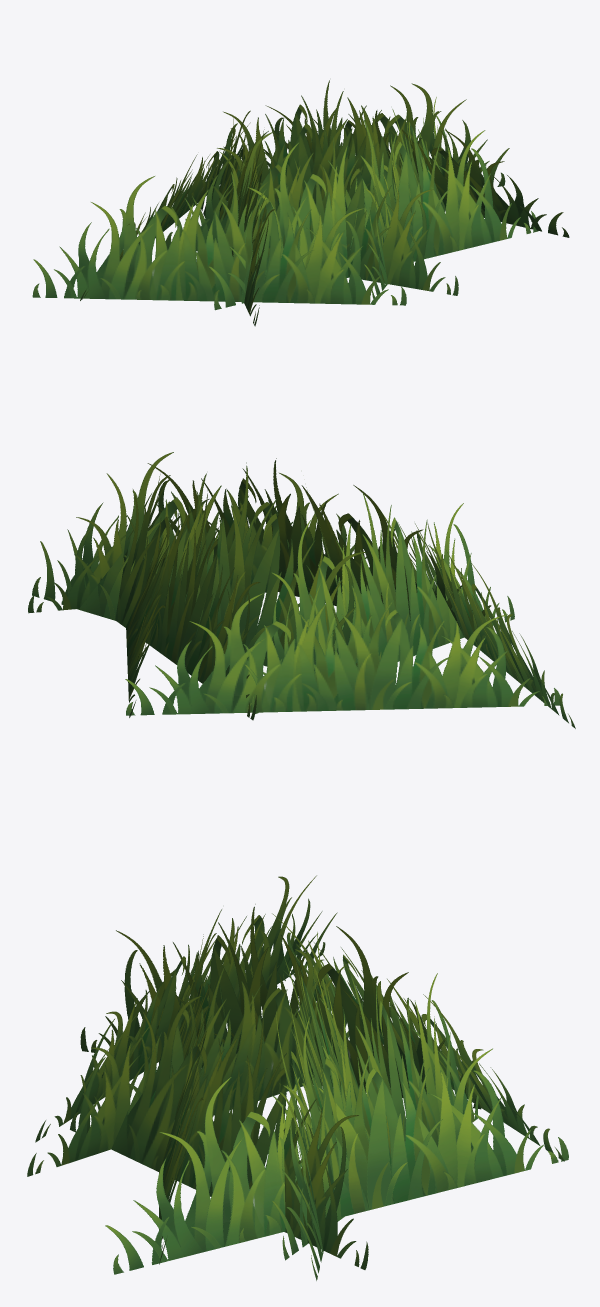
Rendered from Large_Grass_S.fbx.
The picture shows the model from 3 angles, top to bottom: view 1: azimuth 30°, elevation 25°; view 2: azimuth 150°, elevation 25°; view 3: azimuth 270°, elevation 25°; orthographic projection. The views are drawn at different scales.
Visible parts, largest first — view 1: Large_Grass_S; view 2: Large_Grass_S; view 3: Large_Grass_S.
Boxes of the visible parts, left/top/right/bottom form: Large_Grass_S: left=32, top=80, right=569, bottom=326; Large_Grass_S: left=28, top=452, right=575, bottom=728; Large_Grass_S: left=27, top=875, right=568, bottom=1280.
Size of the model in its own units: 1.37 by 0.4713 by 0.9604.
